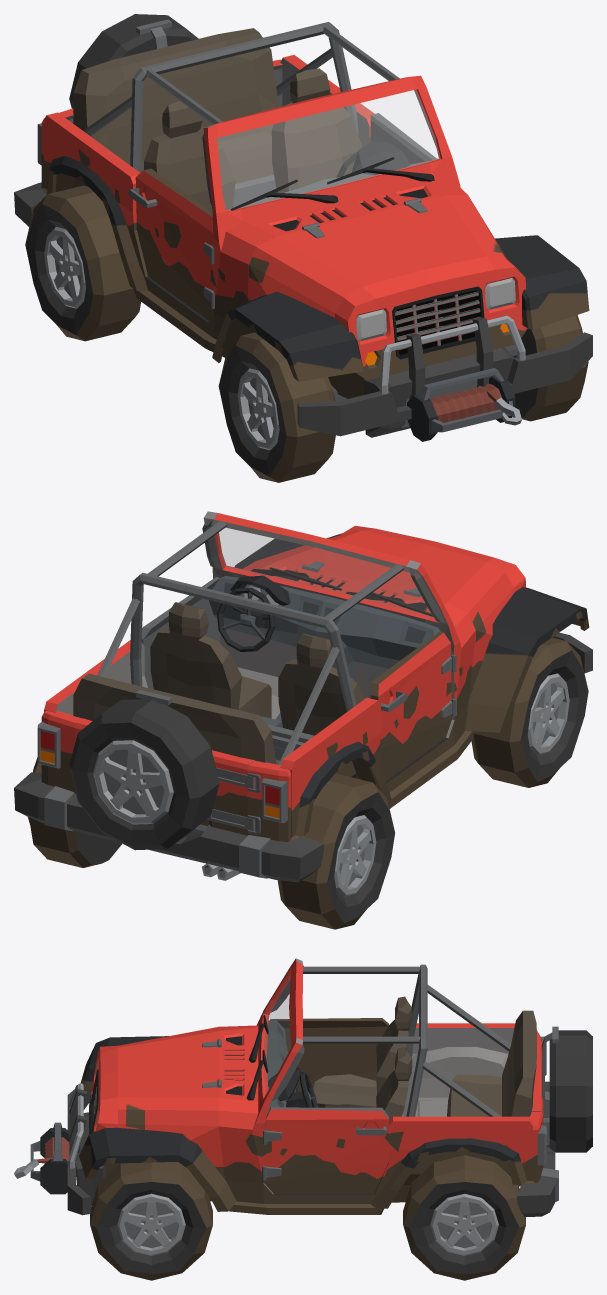
Rendered from SK_Veh_4x4_Car_Alt_01.glb.
3 views of the same model, one above another, from view 1: azimuth 30°, elevation 25°; view 2: azimuth 150°, elevation 25°; view 3: azimuth 270°, elevation 25° (orthographic). The views are drawn at different scales.
Parts seen in each view (by area): view 1: SK_Veh_4x4_Car_Alt_01, SK_Veh_4x4_Car_Rear_Seat_Alt_01, SK_Veh_4x4_Car_Glass_Alt_01, SK_Veh_4x4_Car_Wheel_rr_Alt_01, SK_Veh_4x4_Car_Wheel_fr_Alt_01, SK_Veh_4x4_Car_Door_R_Alt_01, SK_Veh_4x4_Car_Rear_Door_Alt_01, SK_Veh_4x4_Car_Wheel_fl_Alt_01, SK_Veh_4x4_Car_Door_L_Alt_01; view 2: SK_Veh_4x4_Car_Alt_01, SK_Veh_4x4_Car_Rear_Door_Alt_01, SK_Veh_4x4_Car_Wheel_rr_Alt_01, SK_Veh_4x4_Car_Wheel_fr_Alt_01, SK_Veh_4x4_Car_Door_R_Alt_01, SK_Veh_4x4_Car_Glass_Alt_01, SK_Veh_4x4_Car_Rear_Seat_Alt_01, SK_Veh_4x4_Car_Wheel_rl_Alt_01, SK_Veh_4x4_Car_Door_L_Alt_01, SK_Veh_4x4_Car_SteeringW_Alt_01; view 3: SK_Veh_4x4_Car_Alt_01, SK_Veh_4x4_Car_Wheel_rl_Alt_01, SK_Veh_4x4_Car_Wheel_fl_Alt_01, SK_Veh_4x4_Car_Door_L_Alt_01, SK_Veh_4x4_Car_Rear_Door_Alt_01, SK_Veh_4x4_Car_Rear_Seat_Alt_01, SK_Veh_4x4_Car_Door_R_Alt_01, SK_Veh_4x4_Car_Glass_Alt_01.
Boxes of the visible parts, box(x1,y1,x2,y2) form: SK_Veh_4x4_Car_Alt_01: box(14, 22, 592, 441); SK_Veh_4x4_Car_Rear_Seat_Alt_01: box(73, 28, 278, 183); SK_Veh_4x4_Car_Glass_Alt_01: box(217, 90, 440, 210); SK_Veh_4x4_Car_Wheel_rr_Alt_01: box(25, 185, 140, 341); SK_Veh_4x4_Car_Wheel_fr_Alt_01: box(218, 332, 335, 482); SK_Veh_4x4_Car_Door_R_Alt_01: box(128, 168, 214, 320); SK_Veh_4x4_Car_Rear_Door_Alt_01: box(69, 14, 198, 108); SK_Veh_4x4_Car_Wheel_fl_Alt_01: box(514, 315, 588, 421); SK_Veh_4x4_Car_Door_L_Alt_01: box(370, 113, 436, 164); SK_Veh_4x4_Car_Alt_01: box(14, 511, 592, 882); SK_Veh_4x4_Car_Rear_Door_Alt_01: box(69, 690, 255, 850); SK_Veh_4x4_Car_Wheel_rr_Alt_01: box(277, 774, 394, 929); SK_Veh_4x4_Car_Wheel_fr_Alt_01: box(471, 637, 588, 787); SK_Veh_4x4_Car_Door_R_Alt_01: box(370, 631, 456, 780); SK_Veh_4x4_Car_Glass_Alt_01: box(217, 528, 434, 618); SK_Veh_4x4_Car_Rear_Seat_Alt_01: box(73, 673, 279, 764); SK_Veh_4x4_Car_Wheel_rl_Alt_01: box(27, 757, 122, 867); SK_Veh_4x4_Car_Door_L_Alt_01: box(141, 577, 220, 689); SK_Veh_4x4_Car_SteeringW_Alt_01: box(217, 587, 275, 651); SK_Veh_4x4_Car_Alt_01: box(14, 958, 558, 1216); SK_Veh_4x4_Car_Wheel_rl_Alt_01: box(403, 1155, 525, 1280); SK_Veh_4x4_Car_Wheel_fl_Alt_01: box(90, 1162, 212, 1280); SK_Veh_4x4_Car_Door_L_Alt_01: box(262, 1107, 388, 1193); SK_Veh_4x4_Car_Rear_Door_Alt_01: box(531, 1026, 592, 1152); SK_Veh_4x4_Car_Rear_Seat_Alt_01: box(447, 1010, 536, 1116); SK_Veh_4x4_Car_Door_R_Alt_01: box(270, 1018, 388, 1102); SK_Veh_4x4_Car_Glass_Alt_01: box(264, 975, 290, 1093).
Bounding box in the file's own units: 2.28 × 1.99 × 4.65.
Materials: 11 (10 with a texture image).
